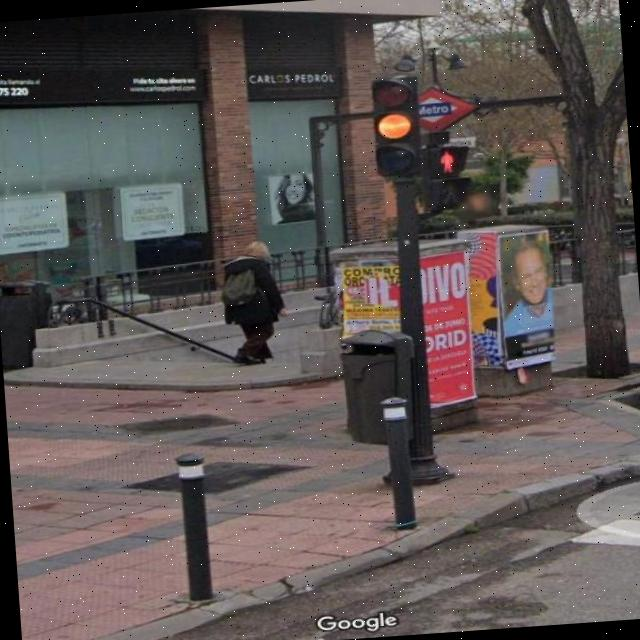yellow_light: (368, 70, 420, 182)
